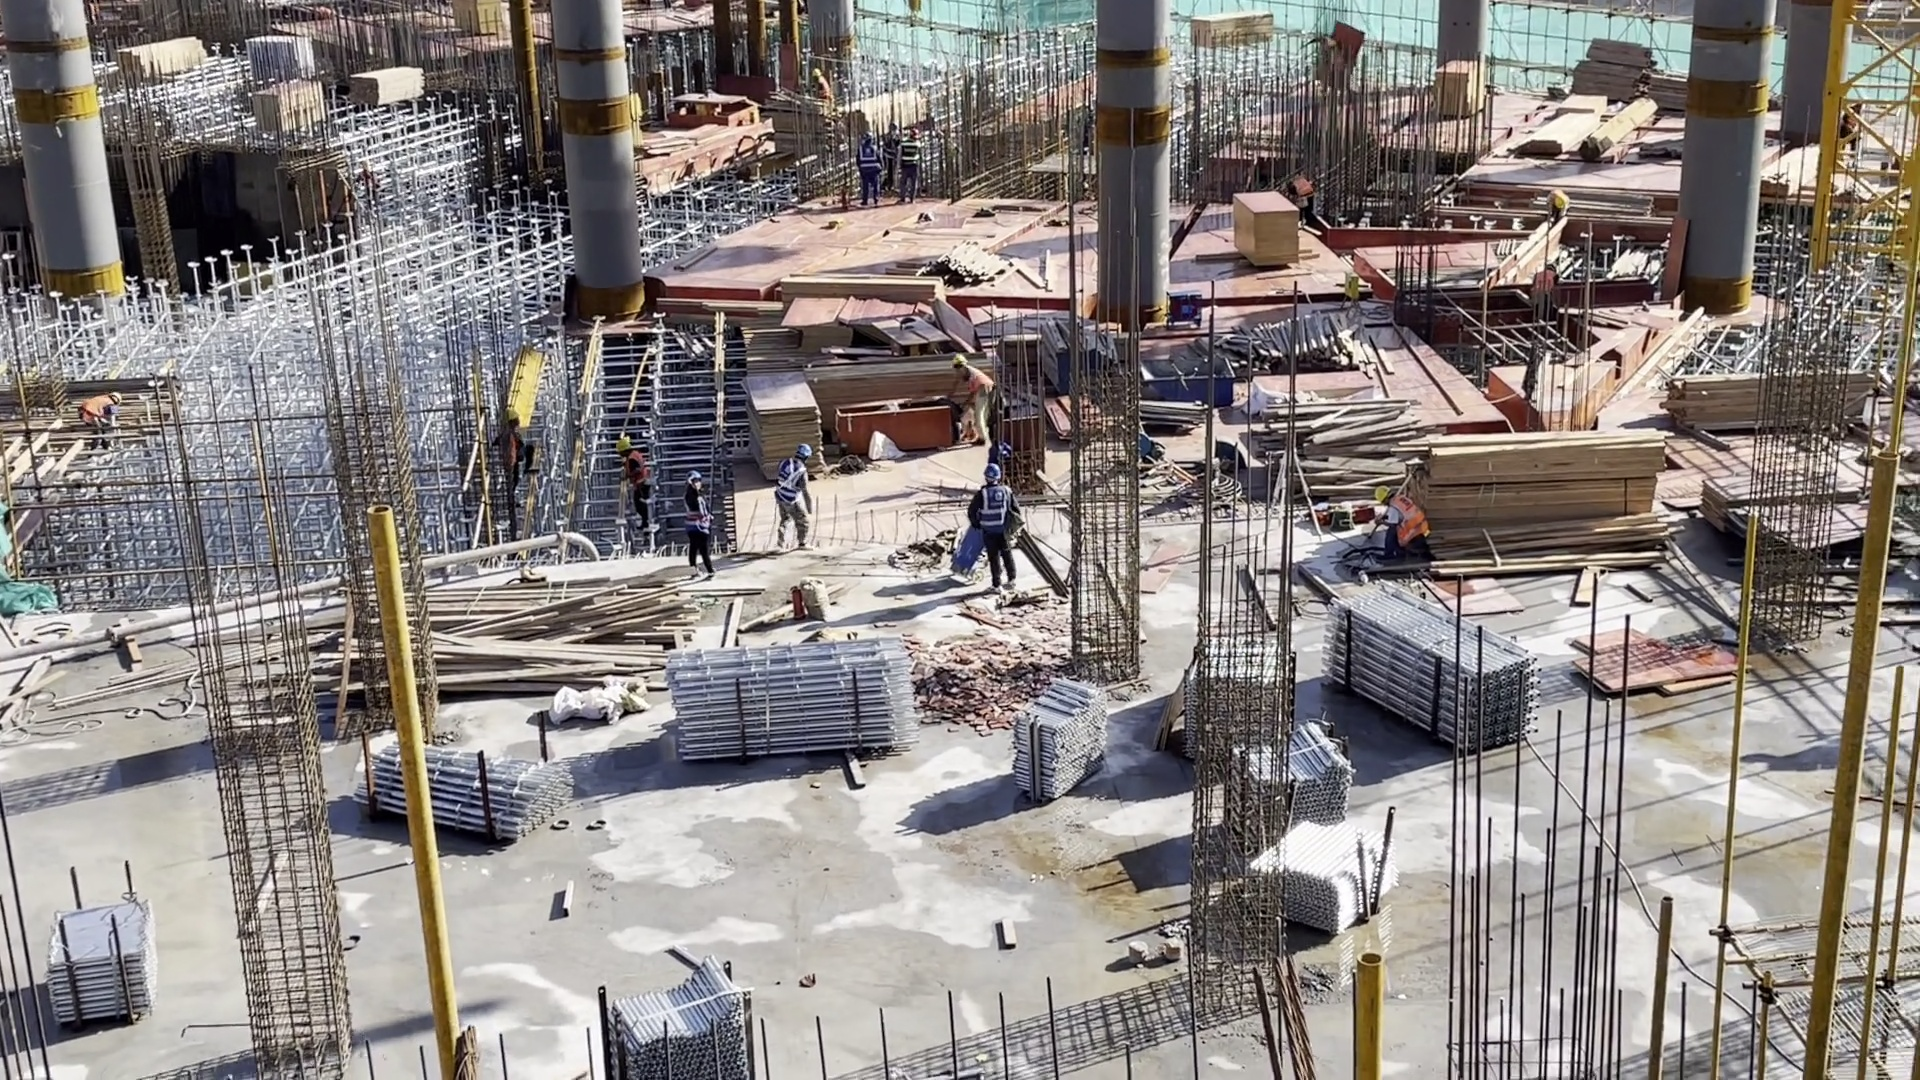board: (695, 267, 962, 402), (1566, 608, 1744, 719), (1228, 190, 1317, 275)
helmet: (974, 461, 1004, 491), (1366, 483, 1394, 507), (610, 437, 635, 460), (500, 408, 522, 433), (792, 442, 815, 464), (859, 129, 878, 150), (686, 468, 704, 491)
hopper: (830, 395, 955, 447), (1133, 346, 1228, 402)
person: (970, 461, 1029, 589), (765, 443, 824, 549), (674, 470, 727, 579), (1362, 487, 1431, 563), (484, 411, 535, 507), (611, 438, 662, 533), (846, 130, 883, 207), (898, 121, 924, 200)
scaffold: (1326, 564, 1536, 724), (671, 644, 919, 770), (575, 953, 766, 1080), (355, 751, 572, 849), (30, 897, 189, 1030), (988, 668, 1126, 819), (1232, 734, 1355, 829), (1247, 811, 1351, 920)
vest: (972, 493, 1016, 538), (681, 496, 716, 544), (776, 458, 806, 510), (1389, 497, 1419, 545), (621, 455, 653, 491), (855, 144, 879, 178), (896, 141, 918, 176)
wood: (418, 568, 680, 698), (1434, 428, 1680, 565), (1537, 82, 1652, 169), (1244, 311, 1380, 375)
